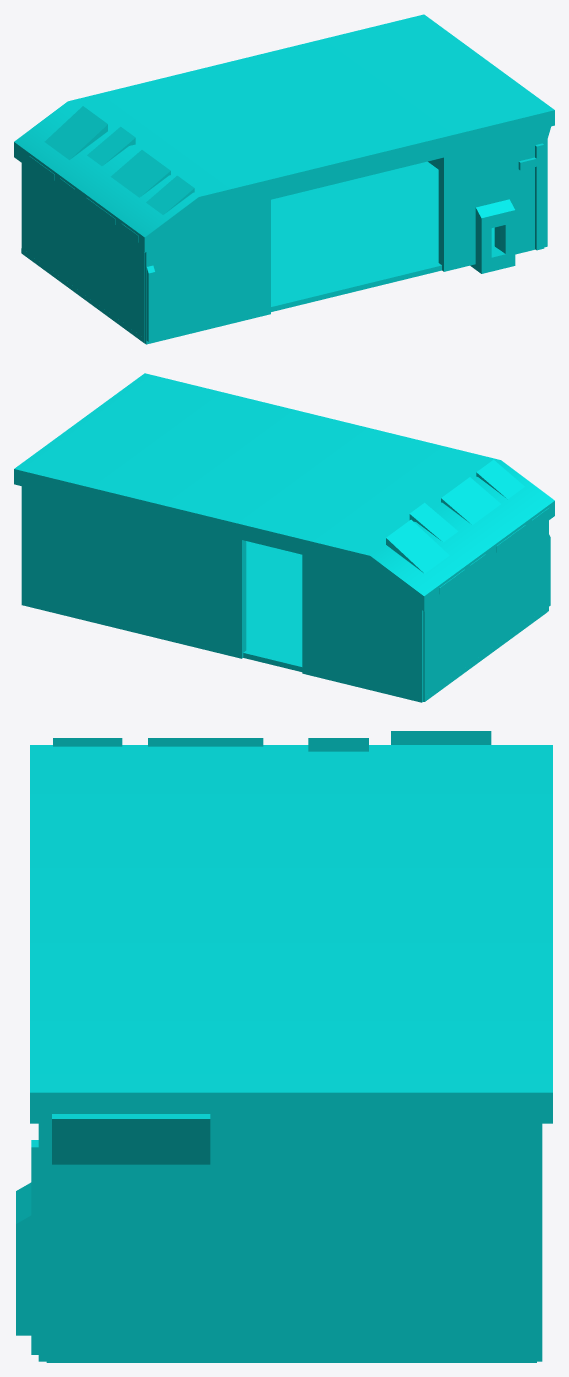
File: SM_Bld_Garage_04_Collision.fbx
The picture shows the model from 3 angles, top to bottom: view 1: azimuth 30°, elevation 25°; view 2: azimuth 150°, elevation 25°; view 3: azimuth 270°, elevation 25°; orthographic projection. The views are drawn at different scales.
Parts seen in each view (by area): view 1: SM_Bld_Garage_04_Collision; view 2: SM_Bld_Garage_04_Collision; view 3: SM_Bld_Garage_04_Collision.
Boxes of the visible parts, <box> form: SM_Bld_Garage_04_Collision: <box>14,14,554,344</box>; SM_Bld_Garage_04_Collision: <box>14,373,554,702</box>; SM_Bld_Garage_04_Collision: <box>16,731,552,1362</box>.
Bounding box in the file's own units: 2719 × 935 × 1523.
